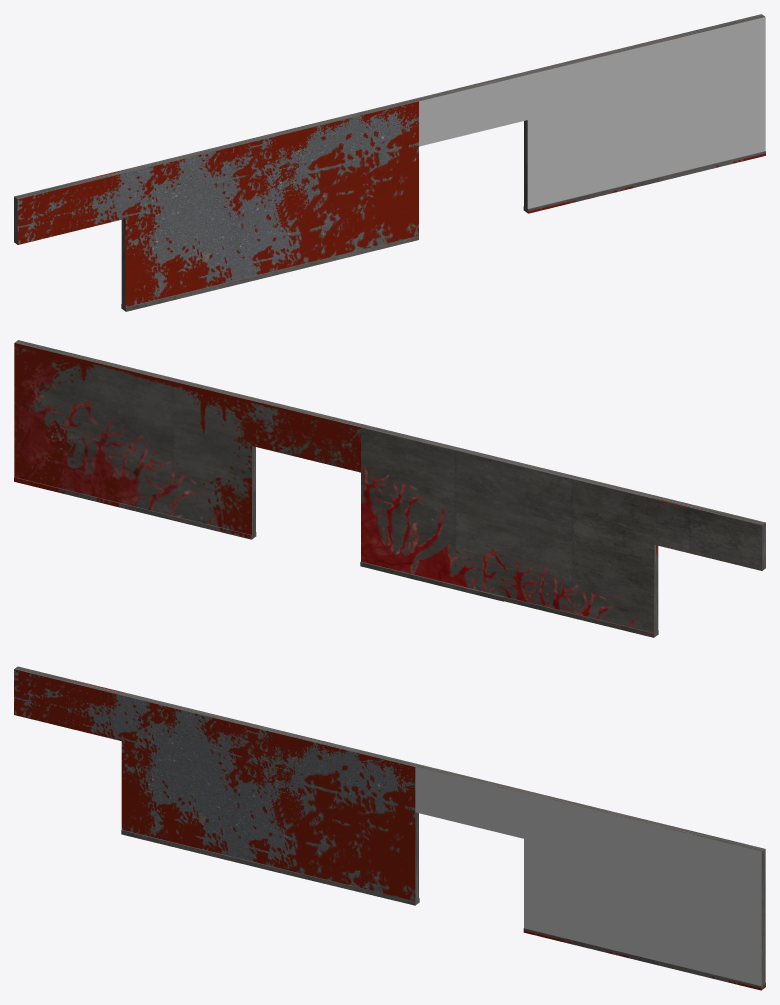
File: paredes2.fbx
The picture shows the model from 3 angles, top to bottom: view 1: azimuth 30°, elevation 25°; view 2: azimuth 150°, elevation 25°; view 3: azimuth 330°, elevation 25°; orthographic projection.
Parts seen in each view (by area): view 1: Cube.733, Cube.742; view 2: Cube.733, Cube.742; view 3: Cube.733, Cube.742.
Part boxes in pixels (x1,y1,x2,y2): Cube.733: [14, 98, 418, 311]; Cube.742: [415, 14, 765, 213]; Cube.733: [360, 424, 765, 637]; Cube.742: [14, 340, 364, 539]; Cube.733: [14, 666, 419, 905]; Cube.742: [415, 764, 765, 990].
Size of the model in its own units: 2105 by 373 by 25.33.
